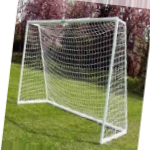goals: (17, 16, 129, 145)
